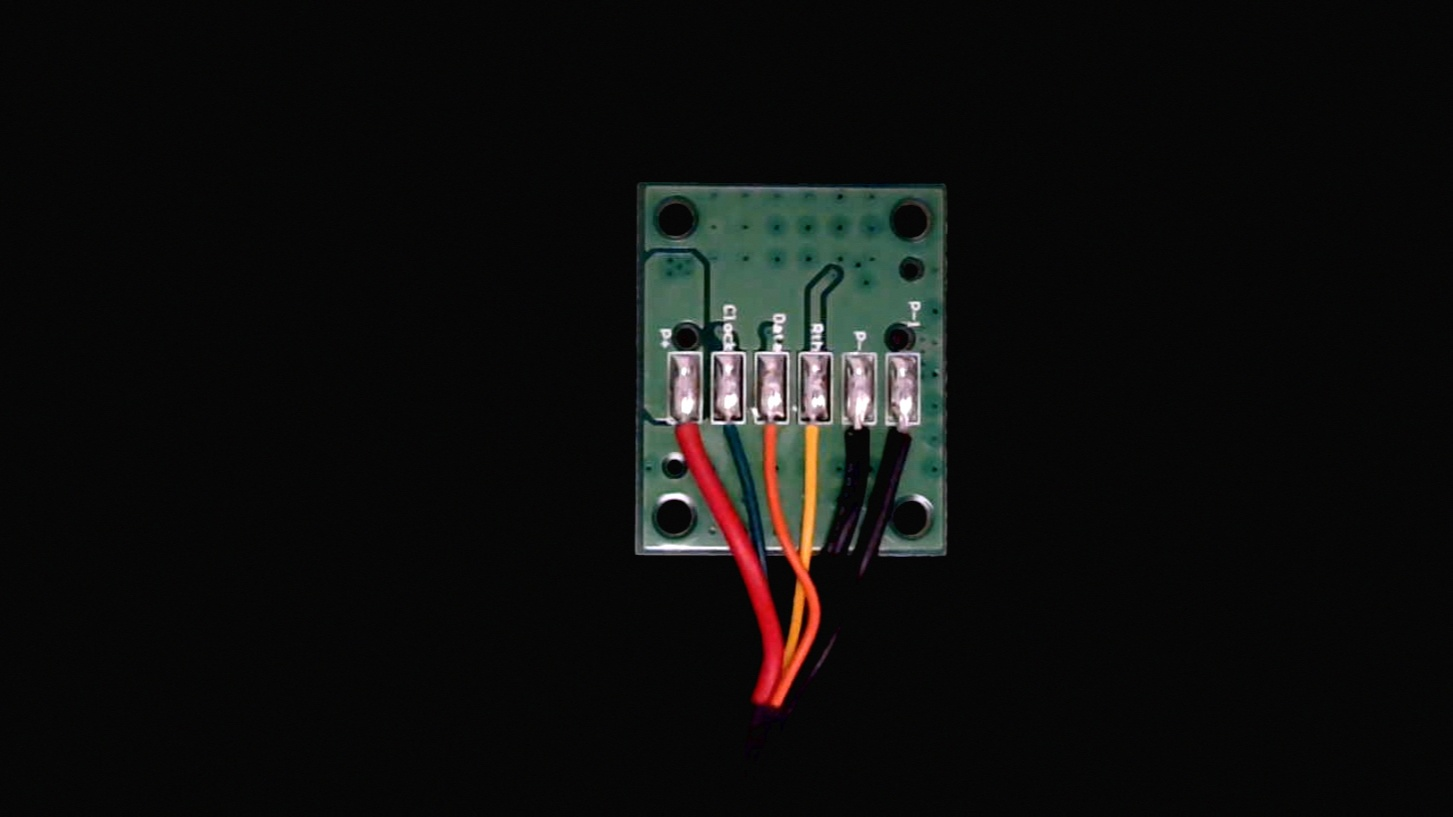Black: (848, 406, 887, 490)
Black1: (901, 407, 935, 487)
Green: (720, 406, 753, 476)
Orange: (763, 406, 800, 489)
Red: (675, 406, 711, 483)
Yellow: (802, 407, 841, 492)
